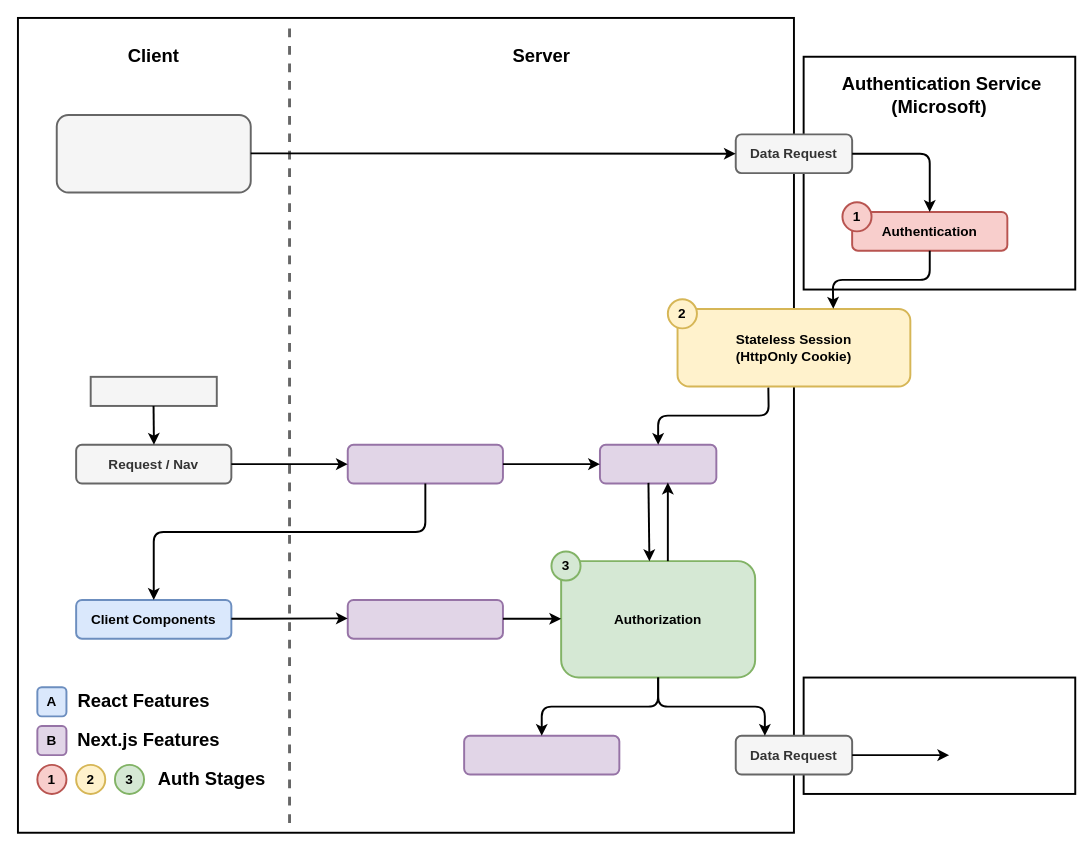
The diagram is 1092 pixels wide and 850 high, and some of its shapes have lost their labels. The shapes that lost their labels are listed below. From the top down, each one's centre as x and y in pixels, then its label:
[153,153]: Login / Logout
[153,390]: Start (after Login)
[424,463]: Middleware
[657,463]: cookies()
[424,618]: Route Handlers
[541,754]: redirect()
[939,735]: Backend
